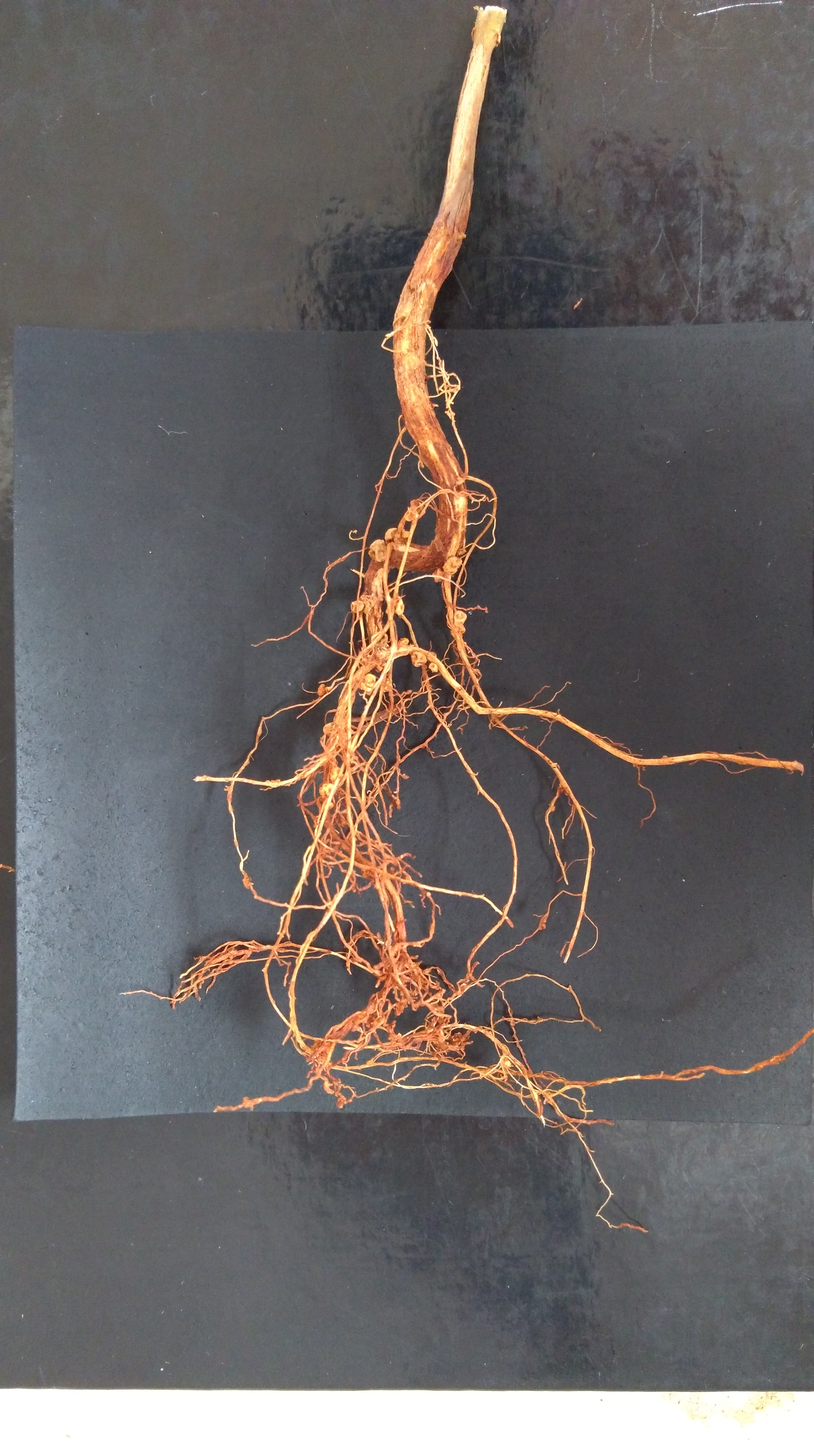nodule: (368, 539, 393, 562), (322, 722, 349, 742), (384, 527, 410, 546), (404, 499, 425, 522), (374, 645, 390, 673), (442, 555, 462, 575), (358, 594, 376, 615), (360, 672, 376, 693), (330, 766, 344, 787), (371, 630, 388, 647), (410, 650, 426, 668), (452, 609, 467, 627), (318, 783, 337, 797), (391, 595, 404, 615), (432, 567, 448, 583), (378, 677, 394, 693), (498, 1055, 515, 1070), (449, 1031, 465, 1046), (339, 808, 351, 827), (360, 864, 375, 879), (450, 624, 466, 637), (350, 600, 365, 612), (242, 874, 253, 889), (390, 794, 400, 808), (337, 1095, 347, 1109), (397, 636, 409, 647), (321, 800, 334, 810), (428, 662, 439, 673), (317, 683, 326, 696), (458, 547, 467, 556), (417, 459, 425, 468), (388, 866, 395, 875)
